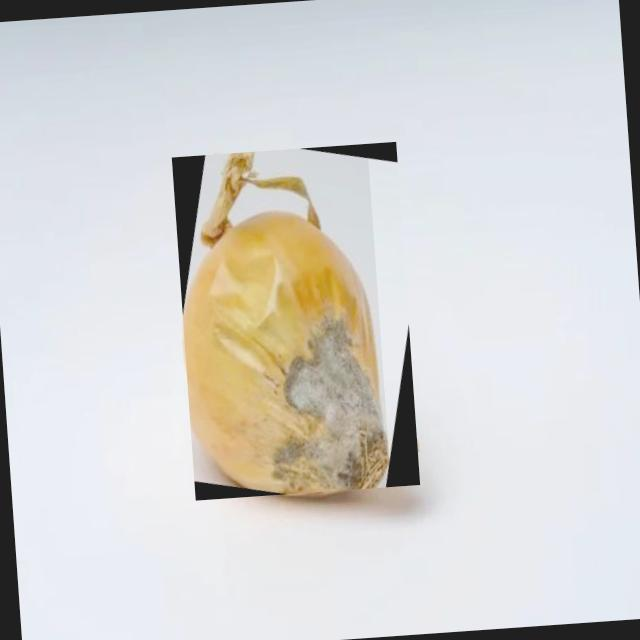rotten: (183, 151, 388, 493)
